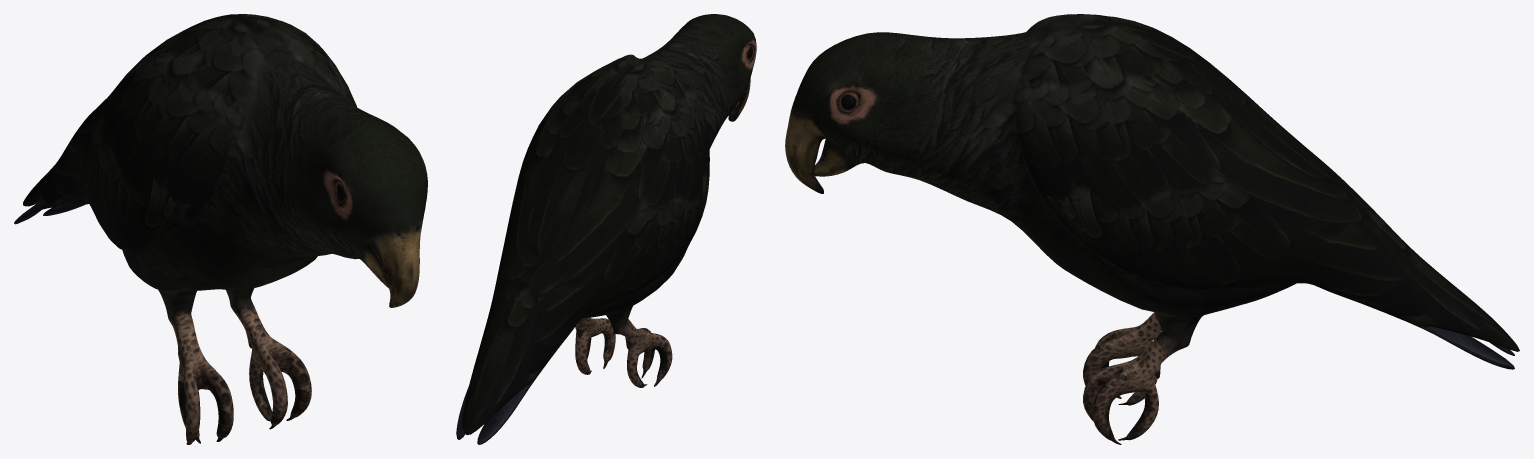
Rendered from Chucuyo.gltf.
The picture shows the model from 3 angles, left to right: view 1: azimuth 30°, elevation 25°; view 2: azimuth 150°, elevation 25°; view 3: azimuth 270°, elevation 25°; orthographic projection. The views are drawn at different scales.
Visible parts, largest first — view 1: Chucuyo; view 2: Chucuyo; view 3: Chucuyo.
Part boxes in pixels (x1,y1,x2,y2): Chucuyo: (14, 14, 427, 444); Chucuyo: (456, 14, 756, 444); Chucuyo: (785, 14, 1519, 444).
Bounding box in the file's own units: 0.9404 × 1.79 × 2.97.
1 material, 1 textured.
